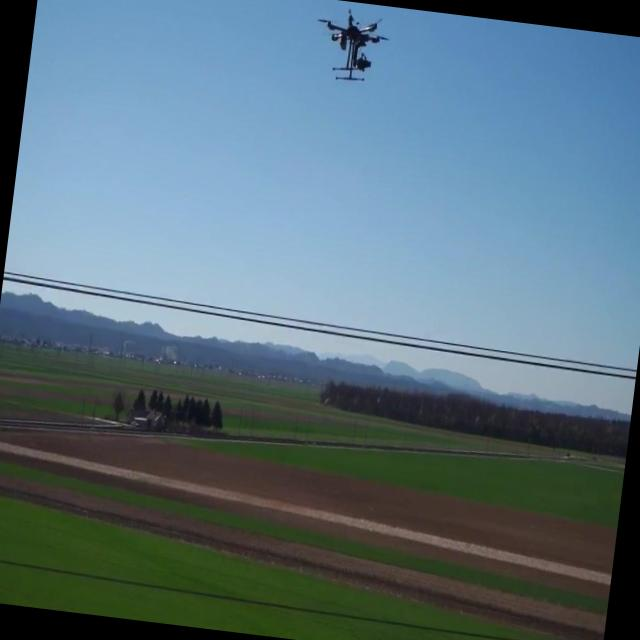drone: (315, 5, 385, 90)
